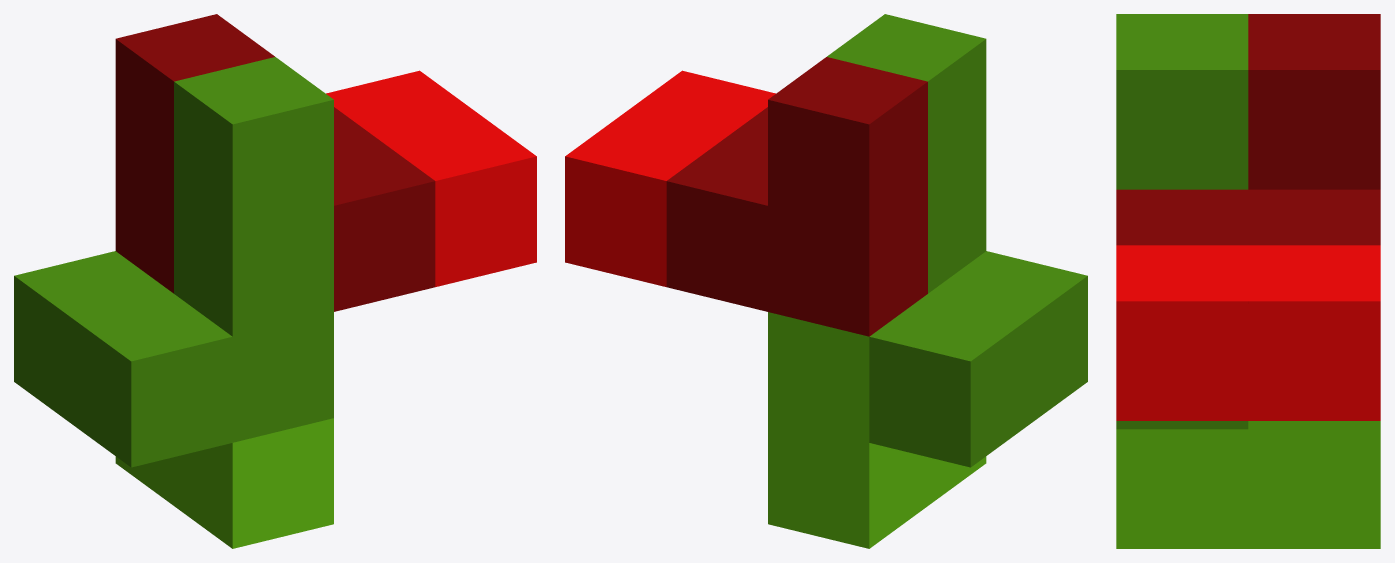
3 views of the same model, side by side, from view 1: azimuth 30°, elevation 25°; view 2: azimuth 150°, elevation 25°; view 3: azimuth 270°, elevation 25° (orthographic). The views are drawn at different scales.
Parts seen in each view (by area): view 1: mergedBlocks(Clone); view 2: mergedBlocks(Clone); view 3: mergedBlocks(Clone).
Part boxes in pixels (x1=…): mergedBlocks(Clone): x1=14, y1=14, x2=536, y2=548; mergedBlocks(Clone): x1=565, y1=14, x2=1087, y2=548; mergedBlocks(Clone): x1=1116, y1=14, x2=1380, y2=548.
Bounding box in the file's own units: 4 × 4 × 2.
Materials: 4 (4 with a texture image).
